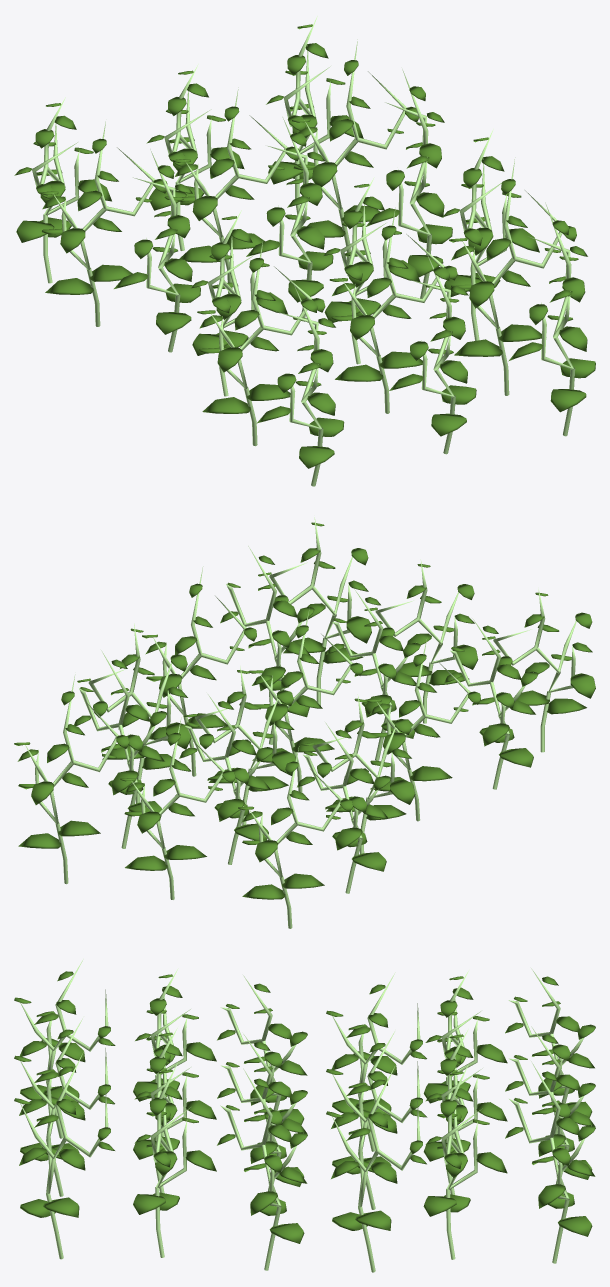
The model's file is PlantsForBox.fbx.
3 views of the same model, one above another, from view 1: azimuth 30°, elevation 25°; view 2: azimuth 150°, elevation 25°; view 3: azimuth 270°, elevation 25° (orthographic). The views are drawn at different scales.
Parts seen in each view (by area): view 1: Greenhouse_PlantBox.005; view 2: Greenhouse_PlantBox.005; view 3: Greenhouse_PlantBox.005.
Part boxes in pixels (x1,y1,x2,y2): Greenhouse_PlantBox.005: (14, 16, 595, 486); Greenhouse_PlantBox.005: (14, 517, 595, 928); Greenhouse_PlantBox.005: (14, 959, 595, 1272).
Size of the model in its own units: 94.31 by 52.74 by 136.
